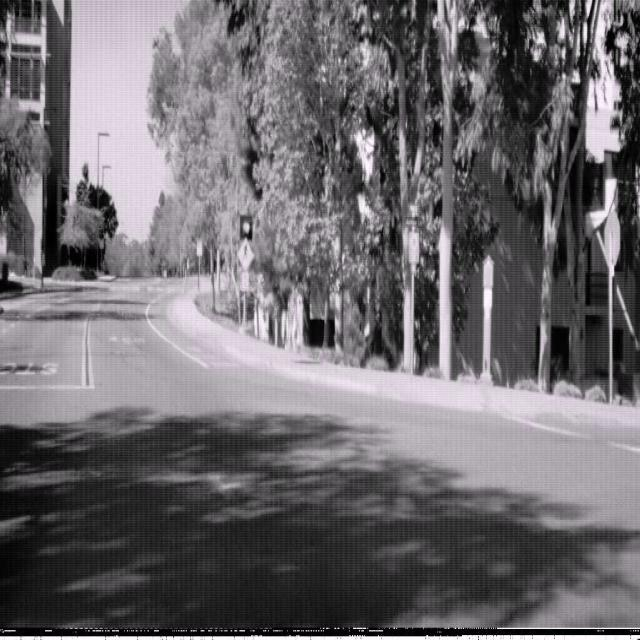pedestrianCrossing: (237, 235, 255, 271)
